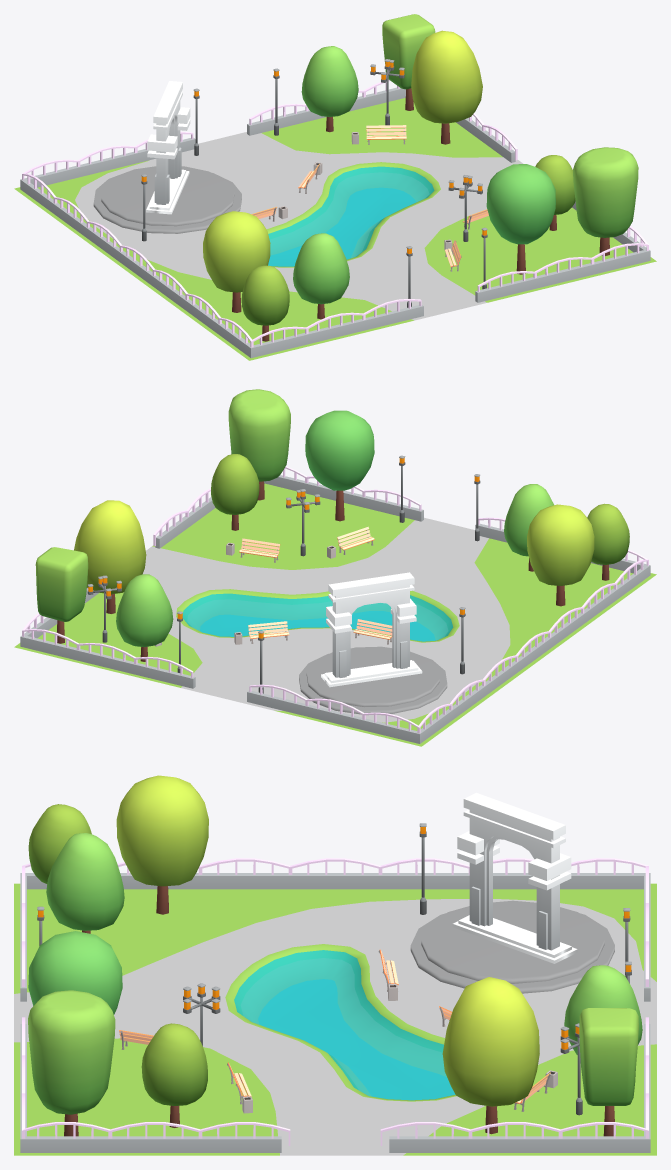
The model's file is Entertainment_Park_10.glb.
3 views of the same model, one above another, from view 1: azimuth 30°, elevation 25°; view 2: azimuth 150°, elevation 25°; view 3: azimuth 270°, elevation 25° (orthographic). The views are drawn at different scales.
Parts seen in each view (by area): view 1: Entertainment_Park_10; view 2: Entertainment_Park_10; view 3: Entertainment_Park_10.
Boxes of the visible parts, x1,y1,x2,y2 form: Entertainment_Park_10: (14,14,656,360); Entertainment_Park_10: (14,389,656,746); Entertainment_Park_10: (14,775,656,1155).
Size of the model in its own units: 30 by 8.79 by 30.
3 materials, 3 textured.
